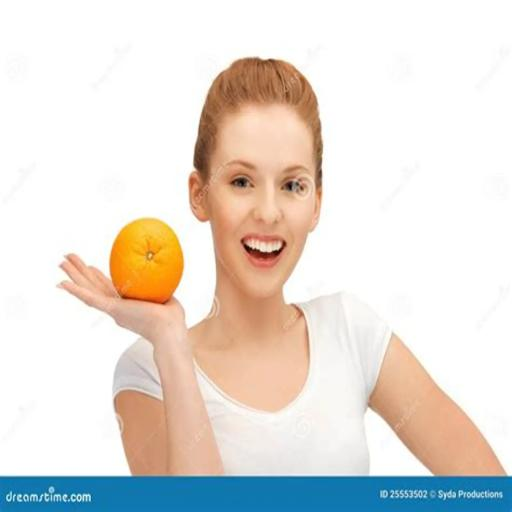orange: (110, 218, 183, 303)
